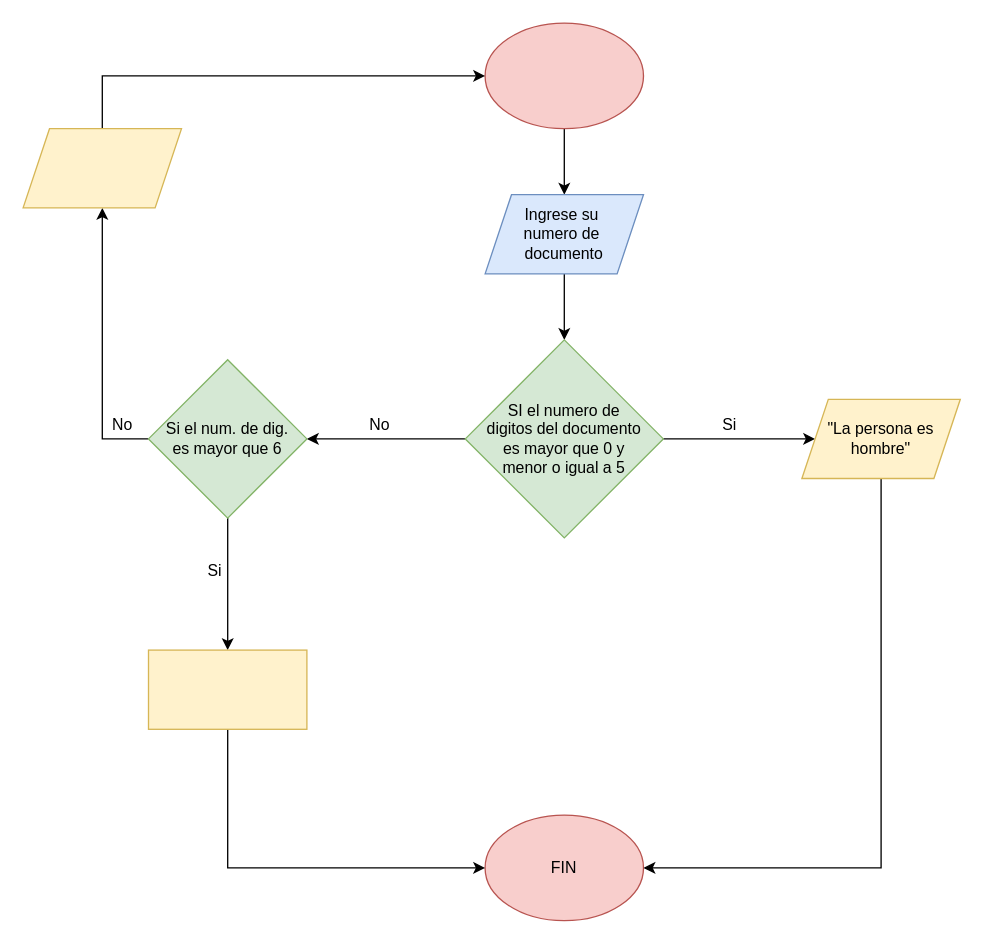
The diagram is 983 pixels wide and 944 high, and some of its shapes have lost their labels. Here are the shapes that lost their labels. From the top down, the centre of each, then its label:
point (564, 75): INICIO
point (102, 167): "El documento ingresado no es valido"
point (227, 689): "La persona es mujer"
